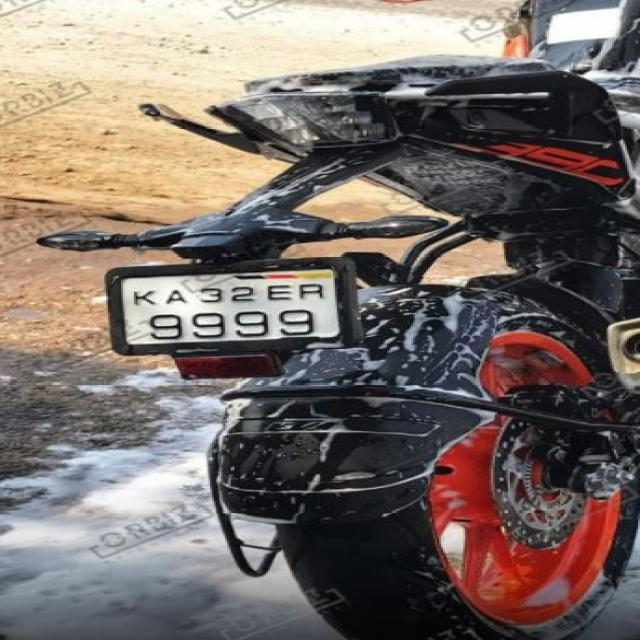number plate: (102, 258, 354, 356)
